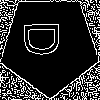D: (24, 20, 69, 57)
